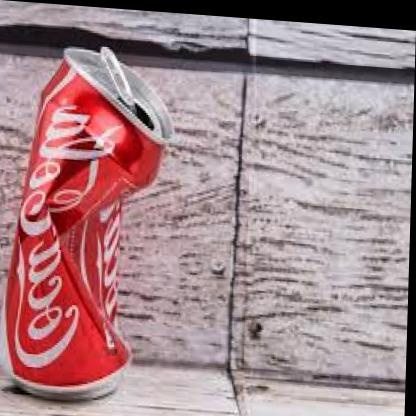trash: (6, 47, 172, 399)
